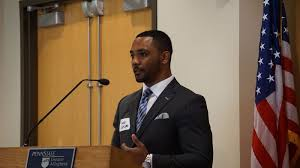black_male: (124, 30, 169, 95)
